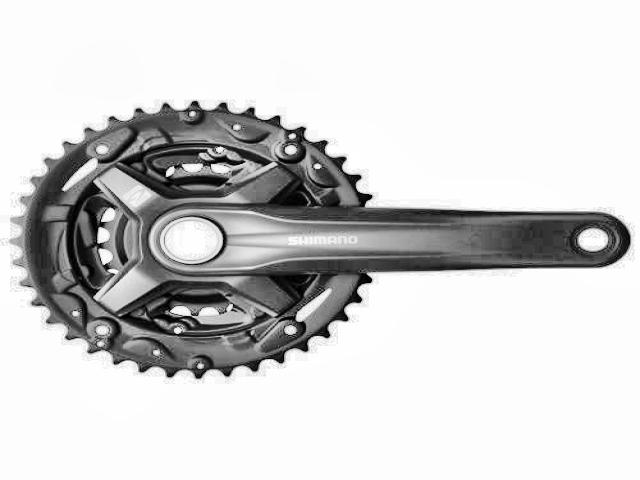cranks_set: (11, 95, 633, 382)
